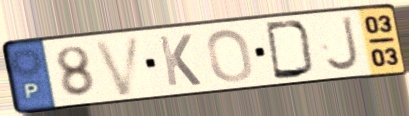8: (53, 44, 98, 98)
D: (263, 19, 317, 81)
J: (323, 13, 363, 73)
K: (155, 32, 204, 89)
O: (205, 27, 256, 85)
V: (90, 33, 145, 99)
